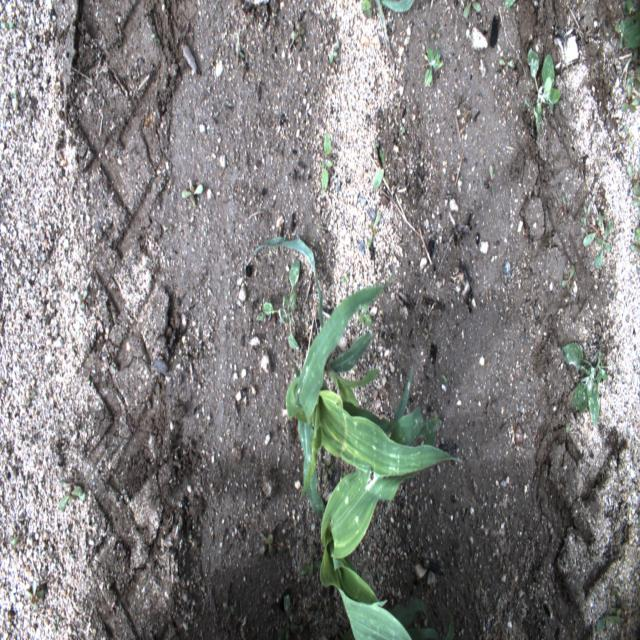crop: (247, 236, 463, 639), (351, 2, 418, 76)
weed: (257, 254, 303, 353), (563, 337, 609, 430), (524, 48, 562, 140), (577, 202, 615, 281), (592, 591, 633, 634), (612, 2, 638, 68), (178, 166, 211, 210), (416, 46, 442, 96), (56, 468, 84, 512), (616, 64, 638, 119), (325, 26, 344, 77), (320, 131, 336, 189), (369, 139, 386, 192), (255, 529, 287, 557), (287, 8, 308, 50), (361, 208, 381, 252), (623, 218, 638, 274), (23, 576, 46, 612), (556, 258, 577, 297), (459, 0, 486, 30), (297, 541, 314, 588), (498, 52, 522, 84), (618, 116, 636, 156), (623, 160, 638, 208), (420, 314, 438, 351), (358, 303, 381, 330), (559, 180, 573, 222), (1, 12, 20, 41), (232, 32, 248, 66), (25, 382, 42, 412), (281, 587, 295, 623), (8, 527, 29, 548), (47, 610, 63, 637), (397, 119, 414, 144), (486, 161, 498, 195), (12, 269, 25, 299), (439, 366, 452, 393), (502, 0, 517, 22), (10, 78, 20, 110)
